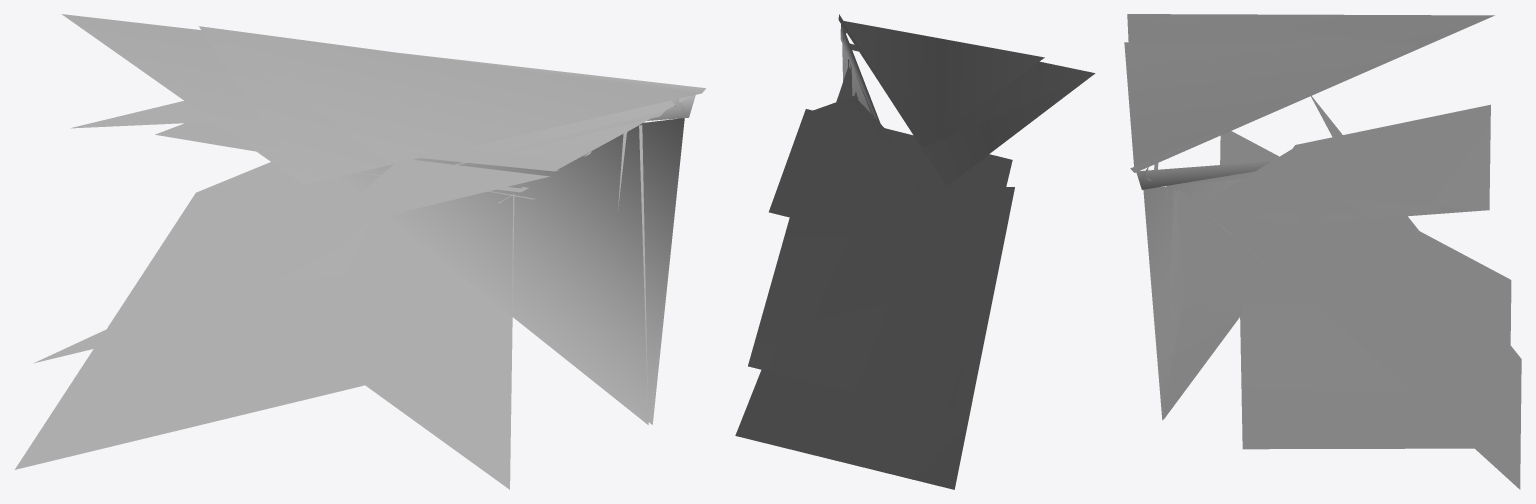
3 views of the same model, side by side, from view 1: azimuth 30°, elevation 25°; view 2: azimuth 150°, elevation 25°; view 3: azimuth 270°, elevation 25° (orthographic). The views are drawn at different scales.
Visible parts, largest first — view 1: tv; view 2: tv; view 3: tv.
Boxes of the visible parts, x1,y1,x2,y2 form: tv: (14,14,705,489); tv: (735,14,1095,489); tv: (1124,14,1521,489).
Bounding box in the file's own units: 3.73e-43 × 3.81e-43 × 3.81e-43.
